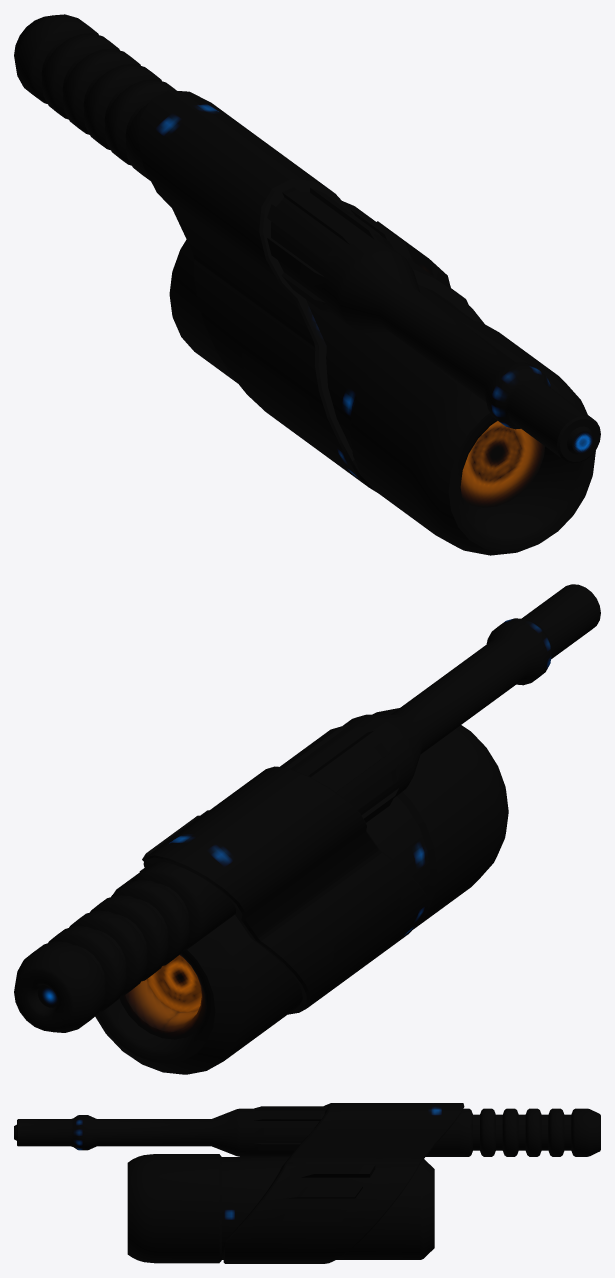
Rendered from SM_L_Engine_5.fbx.
3 renders of one model, top to bottom at view 1: azimuth 30°, elevation 25°; view 2: azimuth 150°, elevation 25°; view 3: azimuth 270°, elevation 25°, orthographic. The views are drawn at different scales.
Visible parts, largest first — view 1: SM_L_Engine_5; view 2: SM_L_Engine_5; view 3: SM_L_Engine_5.
Boxes of the visible parts, box(x1,y1,x2,y2) form: SM_L_Engine_5: box(14, 14, 600, 555); SM_L_Engine_5: box(14, 584, 600, 1074); SM_L_Engine_5: box(14, 1103, 600, 1263).
Bounding box in the file's own units: 31.36 × 40.87 × 154.
